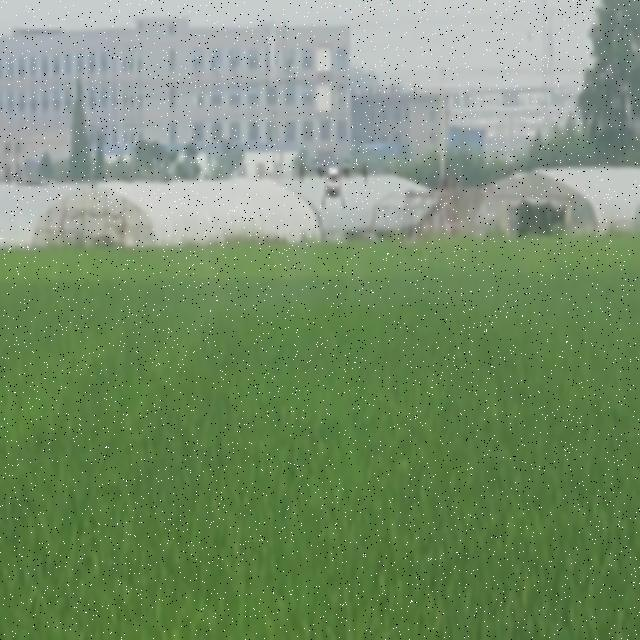UAV: (298, 159, 368, 209)
